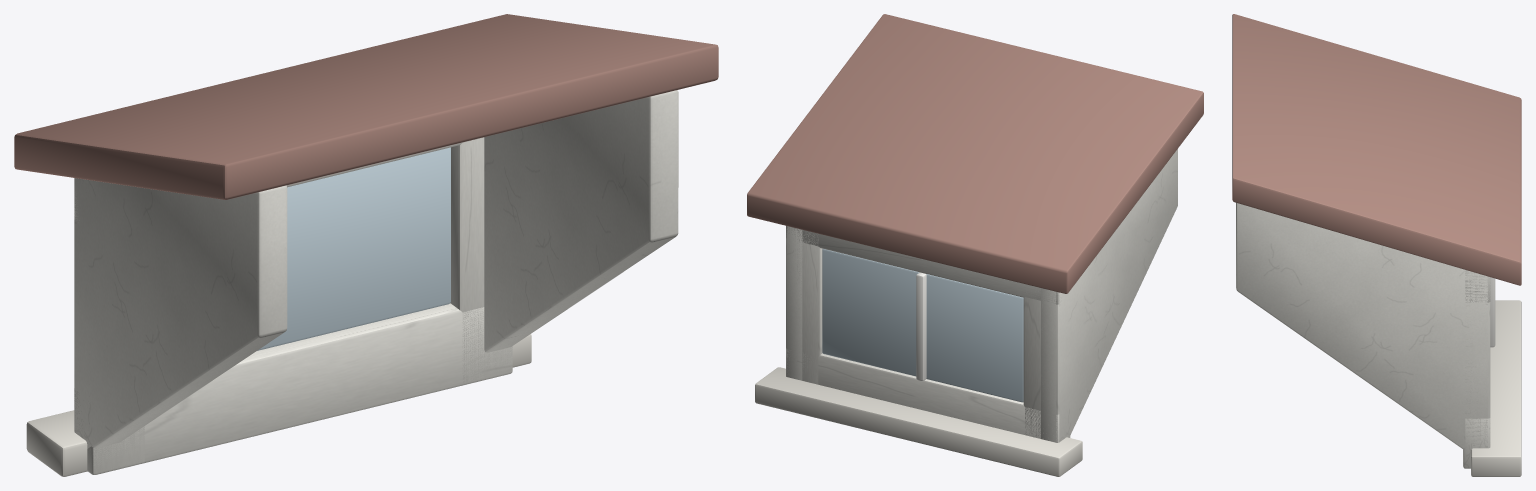
Rendered from th34_gaube.glb.
3 views of the same model, side by side, from view 1: azimuth 30°, elevation 25°; view 2: azimuth 150°, elevation 25°; view 3: azimuth 270°, elevation 25° (orthographic). The views are drawn at different scales.
Visible parts, largest first — view 1: Keil.002, Keil, Keil.001, Cube, Cube.004, Cube.003, Cube.006, Cube.002; view 2: Keil.002, Cube.004, Keil, Cube.006, Cube, Cube.001, Cube.003, Cube.002, Keil.001, Cube.005; view 3: Keil.002, Keil.001, Cube.006, Cube, Cube.001, Cube.003, Cube.005.
Boxes of the visible parts, x1,y1,x2,y2 form: Keil.002: [14, 14, 718, 199]; Keil: [74, 178, 287, 448]; Keil.001: [484, 90, 678, 352]; Cube: [74, 303, 512, 474]; Cube.004: [257, 147, 450, 350]; Cube.003: [450, 137, 512, 384]; Cube.006: [26, 334, 531, 476]; Cube.002: [74, 219, 144, 474]; Keil.002: [747, 14, 1203, 293]; Cube.004: [822, 249, 1023, 402]; Keil: [1041, 149, 1177, 442]; Cube.006: [755, 367, 1082, 476]; Cube: [786, 348, 1070, 442]; Cube.001: [786, 226, 1059, 304]; Cube.003: [786, 229, 822, 384]; Cube.002: [1023, 285, 1060, 442]; Keil.001: [787, 226, 802, 380]; Cube.005: [916, 272, 926, 380]; Keil.002: [1232, 14, 1521, 285]; Keil.001: [1236, 202, 1487, 452]; Cube.006: [1471, 300, 1521, 476]; Cube: [1463, 418, 1490, 468]; Cube.001: [1465, 270, 1490, 302]; Cube.003: [1463, 277, 1490, 467]; Cube.005: [1490, 277, 1495, 347].
Bounding box in the file's own units: 2 × 1.71 × 1.48.
5 materials, 1 textured.
